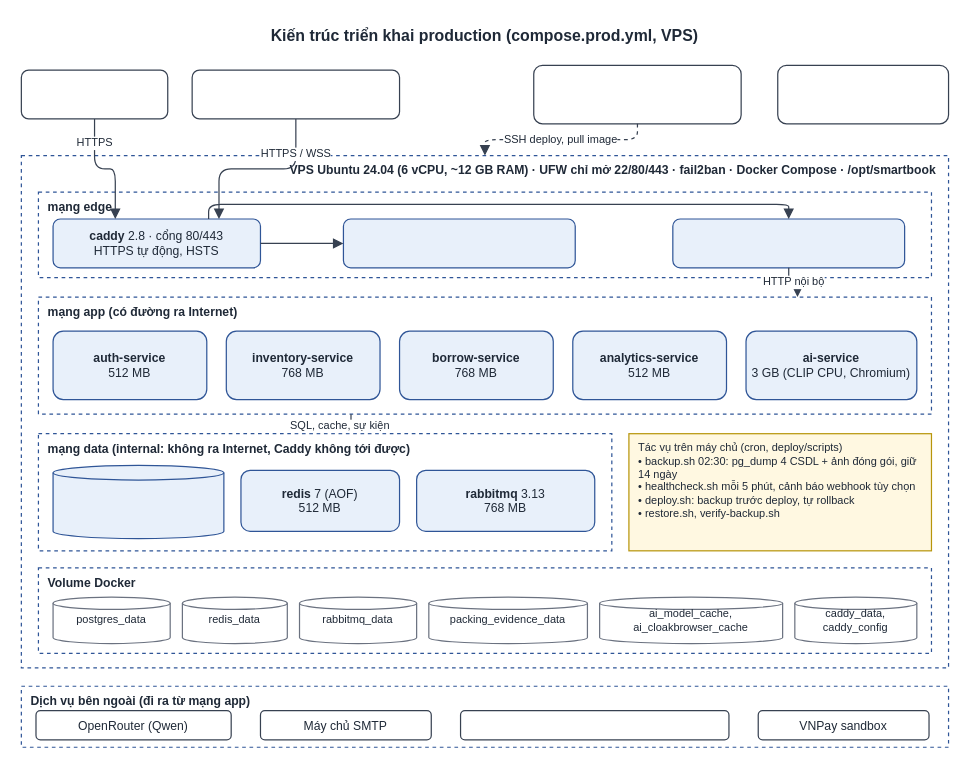
This 970x769 diagram has some shape labels left out. Here are the shapes that lost their labels. From the top down, the centre of each, then its label:
At [94,94]: "Trình duyệt smartbook.io.vn".
At [295,94]: "Ứng dụng di động (APK EAS) api.smartbook.io.vn".
At [637,94]: "GitHub Actions (CI/CD) + GHCR image gắn tag commit SHA".
At [863,94]: "Expo EAS build APK/AAB, OTA".
At [458,243]: "web (nginx, bundle React, CSP)".
At [788,243]: "api-gateway (nối cả 3 mạng)".
At [138,501]: "db pgvector/pg15 2 GB · 4 CSDL".
At [594,724]: "Google Books, Open Library, nhà sách".
